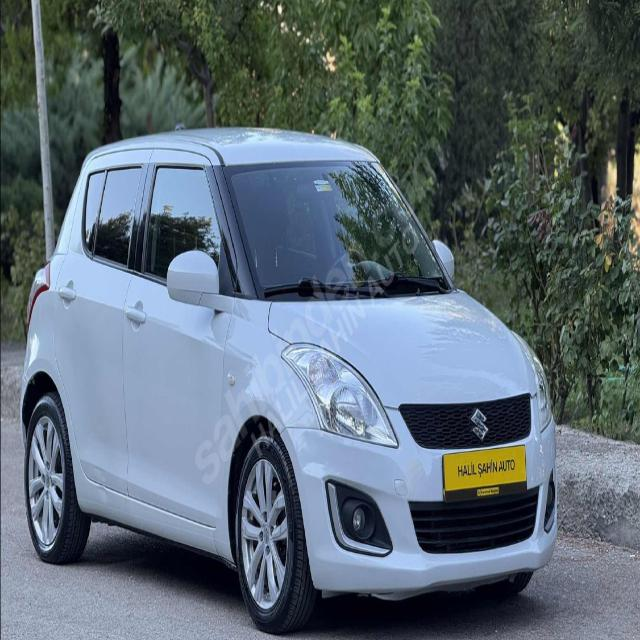suzuki: (468, 404, 489, 446)
